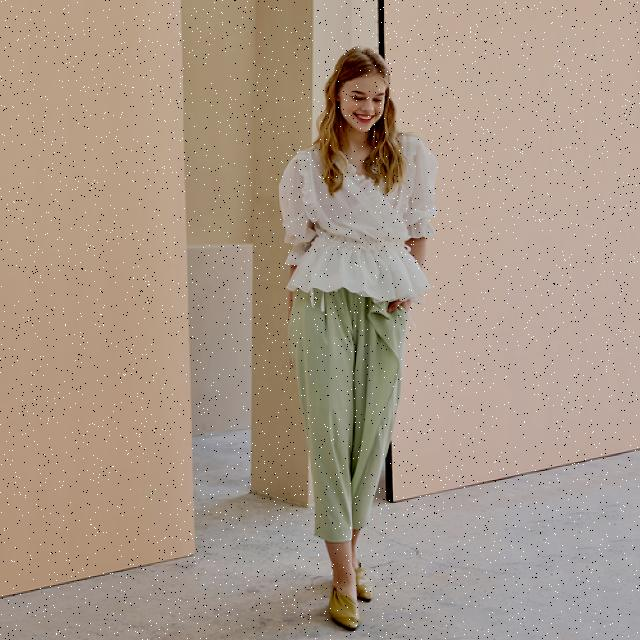dress: (290, 283, 408, 543)
